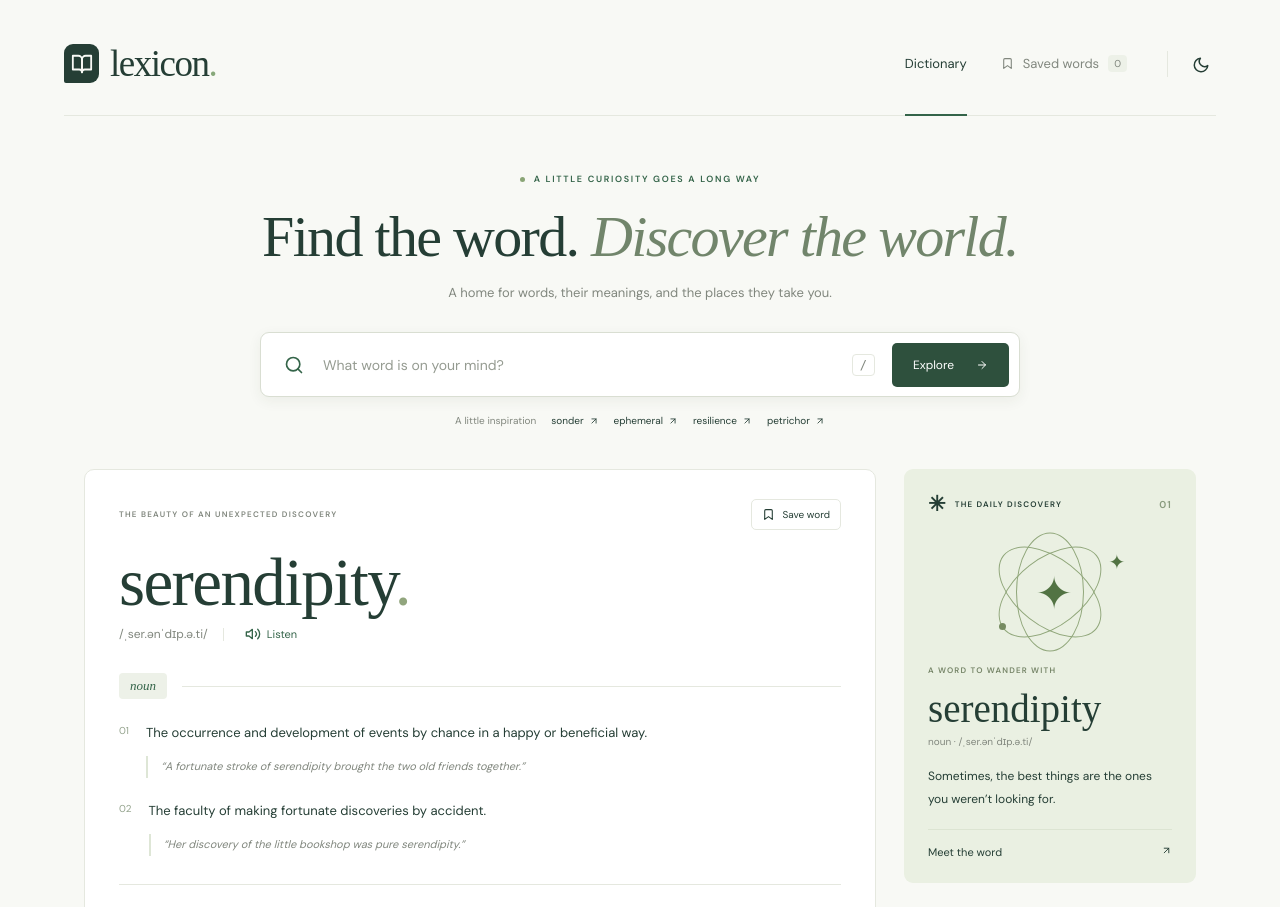
Test: rejects malformed definitions without crashing
The image size is (1280, 907).
Click the button "resilience".
click(722, 421)  # box [693,414,752,427]
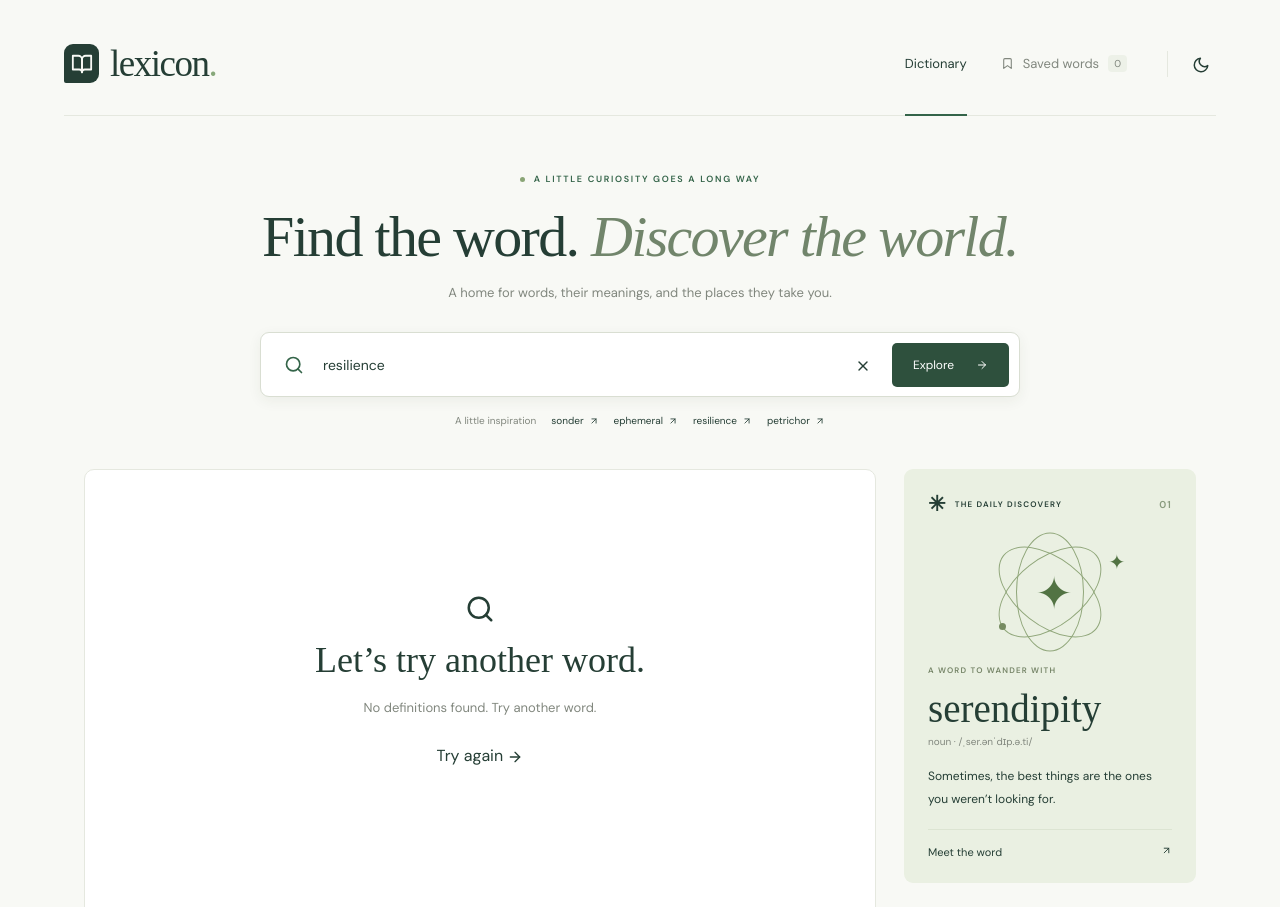
Check: the message shows "No definitions found", box [364,699,596,716]
